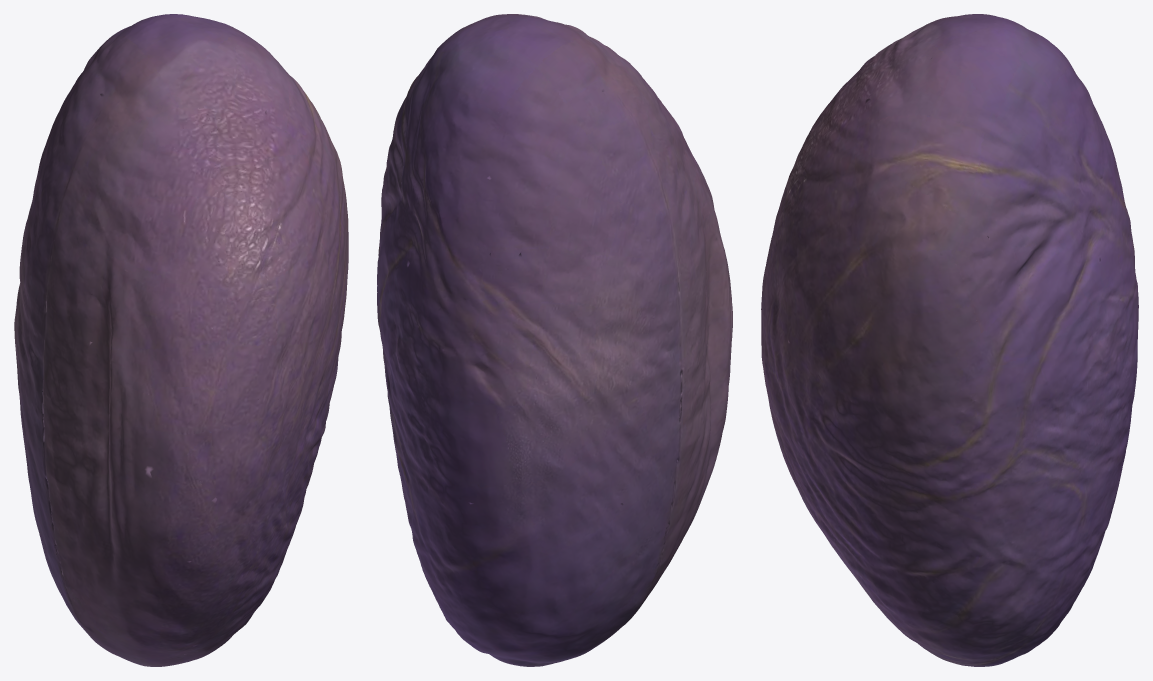
The model's file is enterobius-vermicularis_H_optimized.glb.
3 views of the same model, side by side, from view 1: azimuth 30°, elevation 25°; view 2: azimuth 150°, elevation 25°; view 3: azimuth 270°, elevation 25° (orthographic).
Size of the model in its own units: 0.9679 by 1.99 by 1.07.
1 material, 1 textured.
